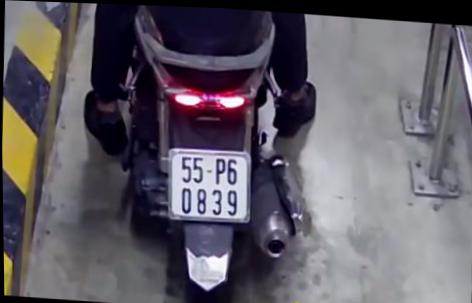LP: (165, 144, 249, 219)
